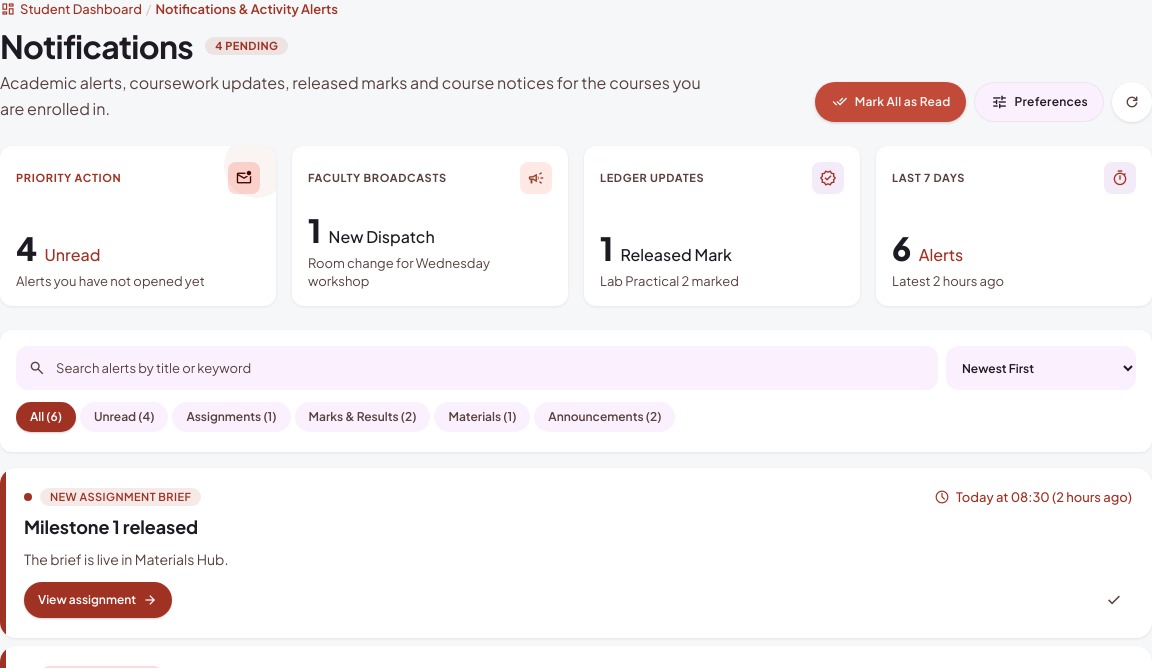
student notifications › mark all as read clears every unread alert
Expected: the heading "Milestone 1 released" is shown, [24,515,198,538]
Click the button "Mark All as Read". click: [891, 102]
box: [815,82,966,122]
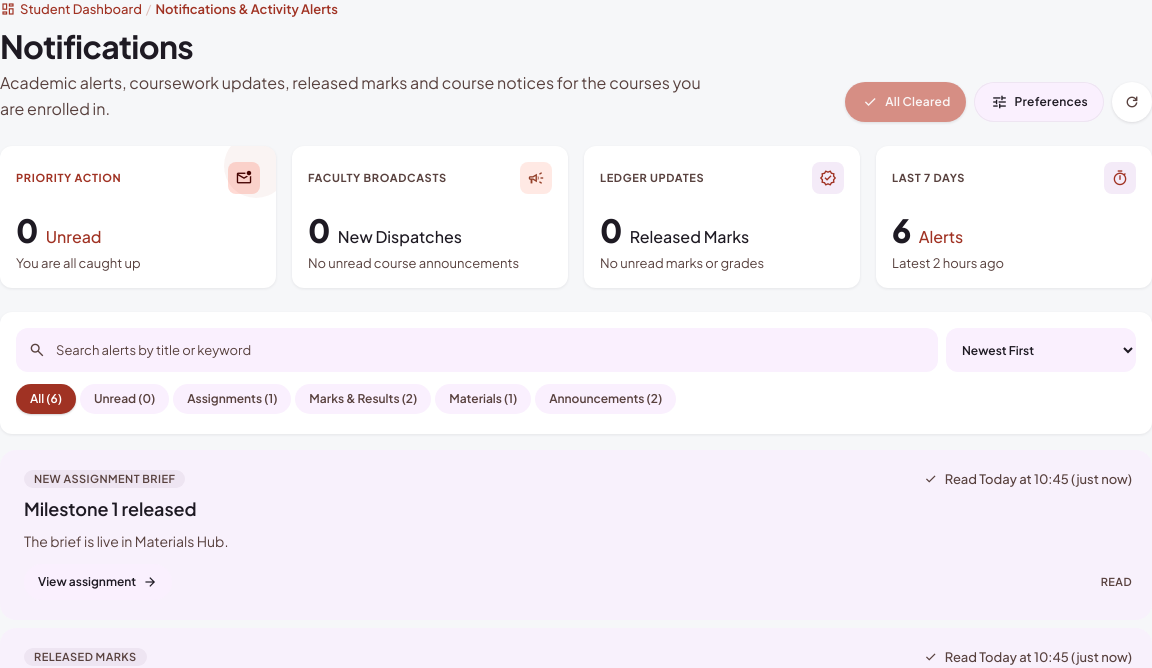
Expected: the button "All Cleared" is disabled, [845,82,966,122]
Expected: the text "Pending" is gone
Expected: the text "You are all caught up" is shown, [16,255,141,271]
